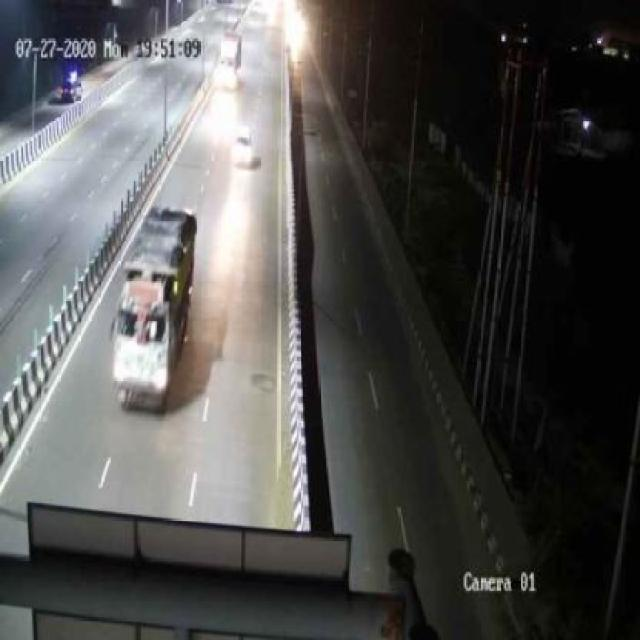car: (234, 125, 258, 169)
